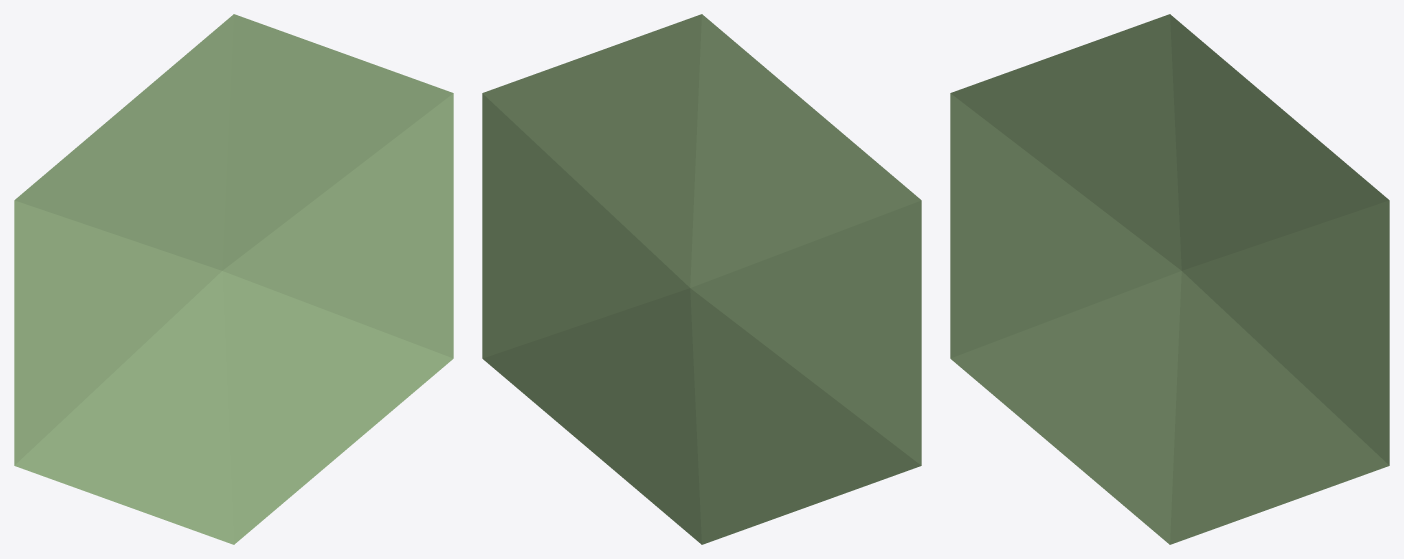
The model's file is grass.glb.
The picture shows the model from 3 angles, left to right: view 1: azimuth 30°, elevation 25°; view 2: azimuth 150°, elevation 25°; view 3: azimuth 330°, elevation 25°; orthographic projection.
Parts seen in each view (by area): view 1: GrassTerrain; view 2: GrassTerrain; view 3: GrassTerrain.
Part boxes in pixels (x1,y1,x2,y2): GrassTerrain: [14, 14, 453, 544]; GrassTerrain: [482, 14, 921, 544]; GrassTerrain: [950, 14, 1389, 544].
Size of the model in its own units: 1.73 by 2 by 0.08.
